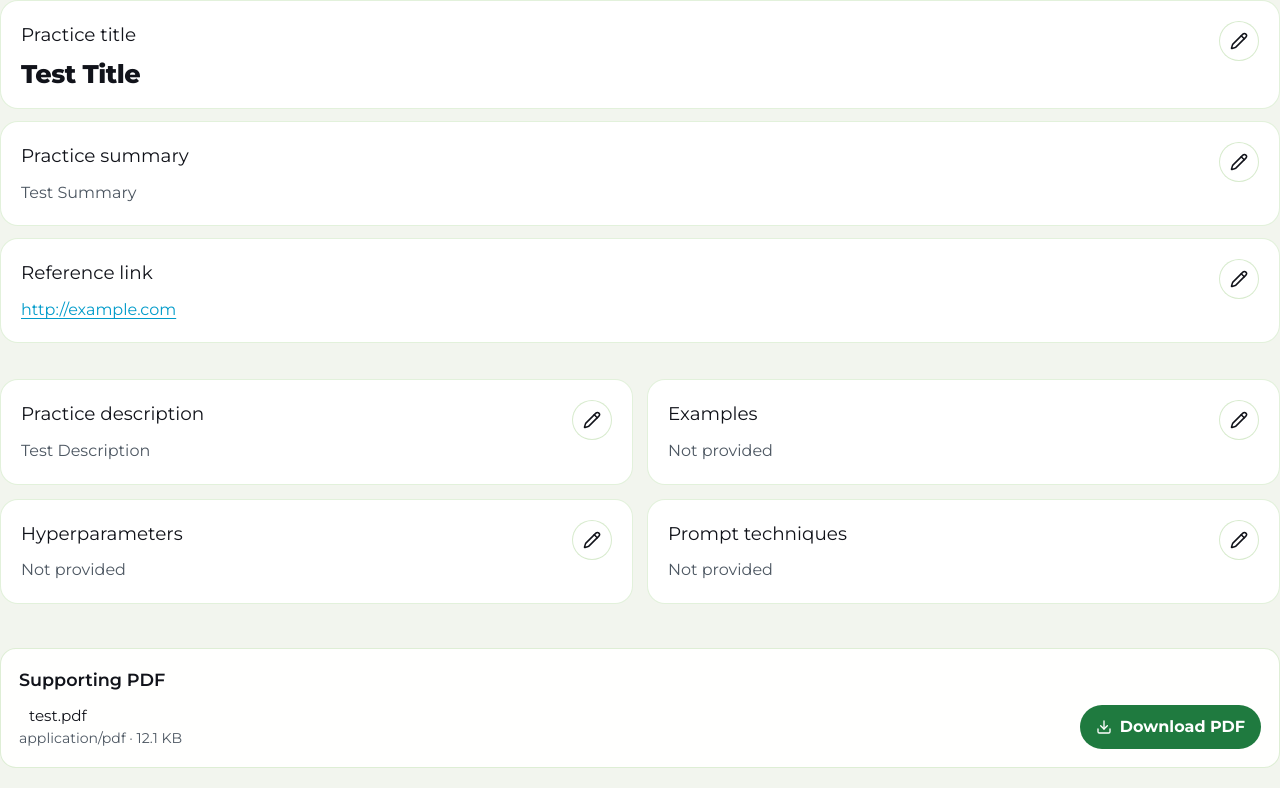
Test: RequestDetailsClient › should handle error on field save
Click the button named "Edit" at (1239, 41), box 1219,21 -> 1259,61
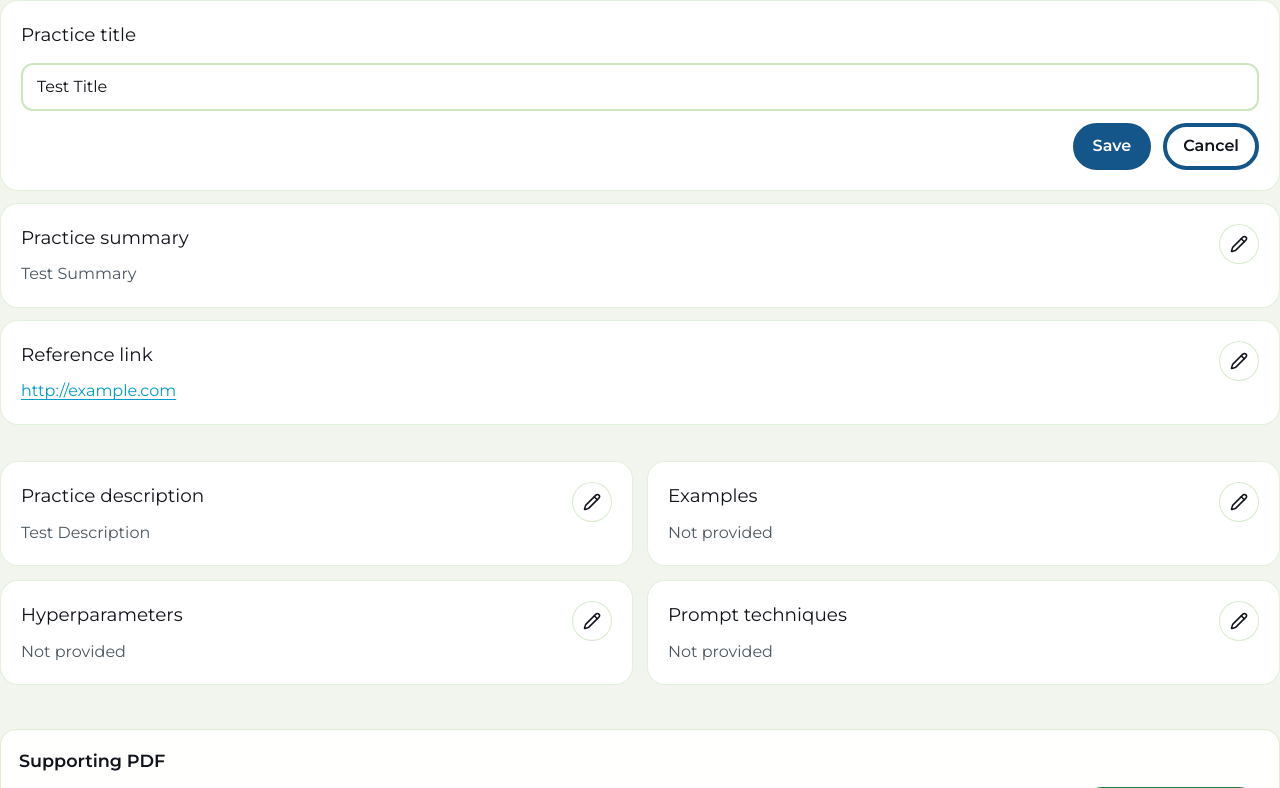
Replace the text in the field named "Practice title" with "New Title" at (640, 87), box 21,63 -> 1259,111
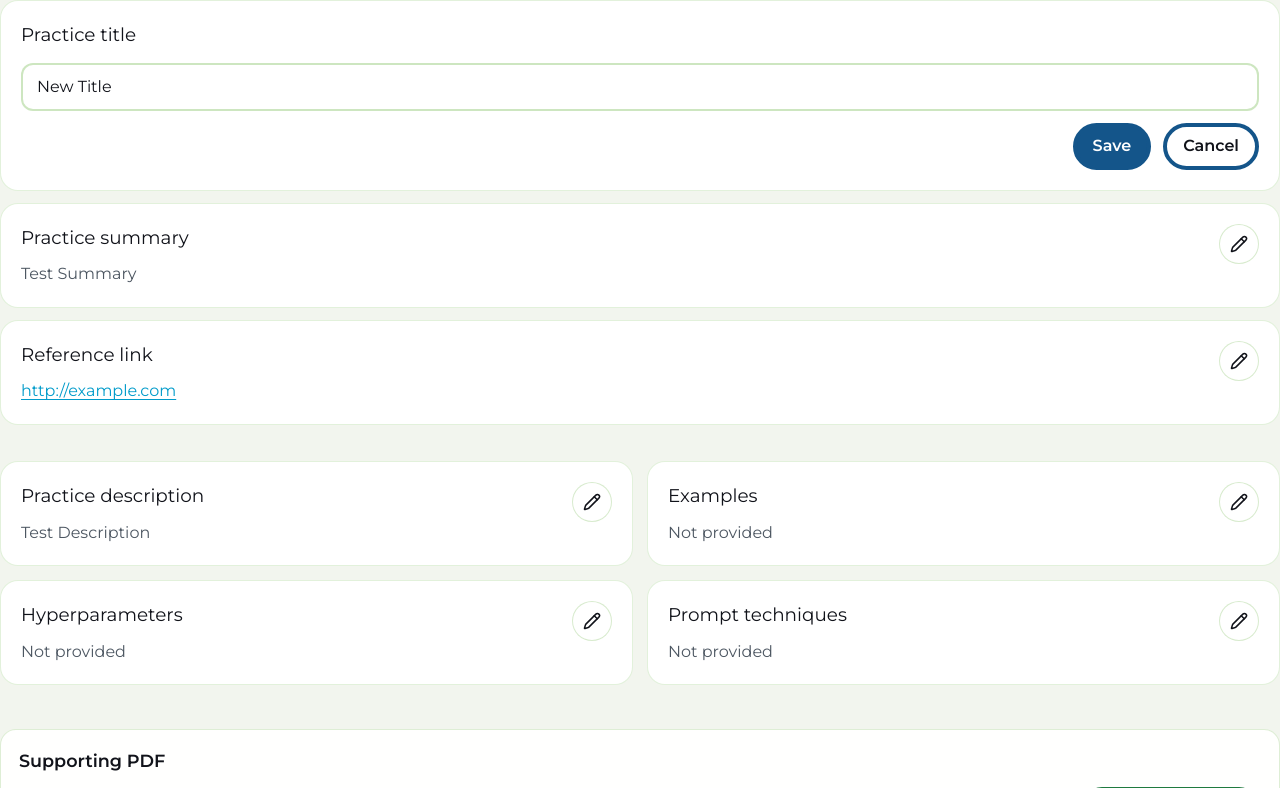
Click the button "Save" at (1112, 146), box 1073,123 -> 1151,170
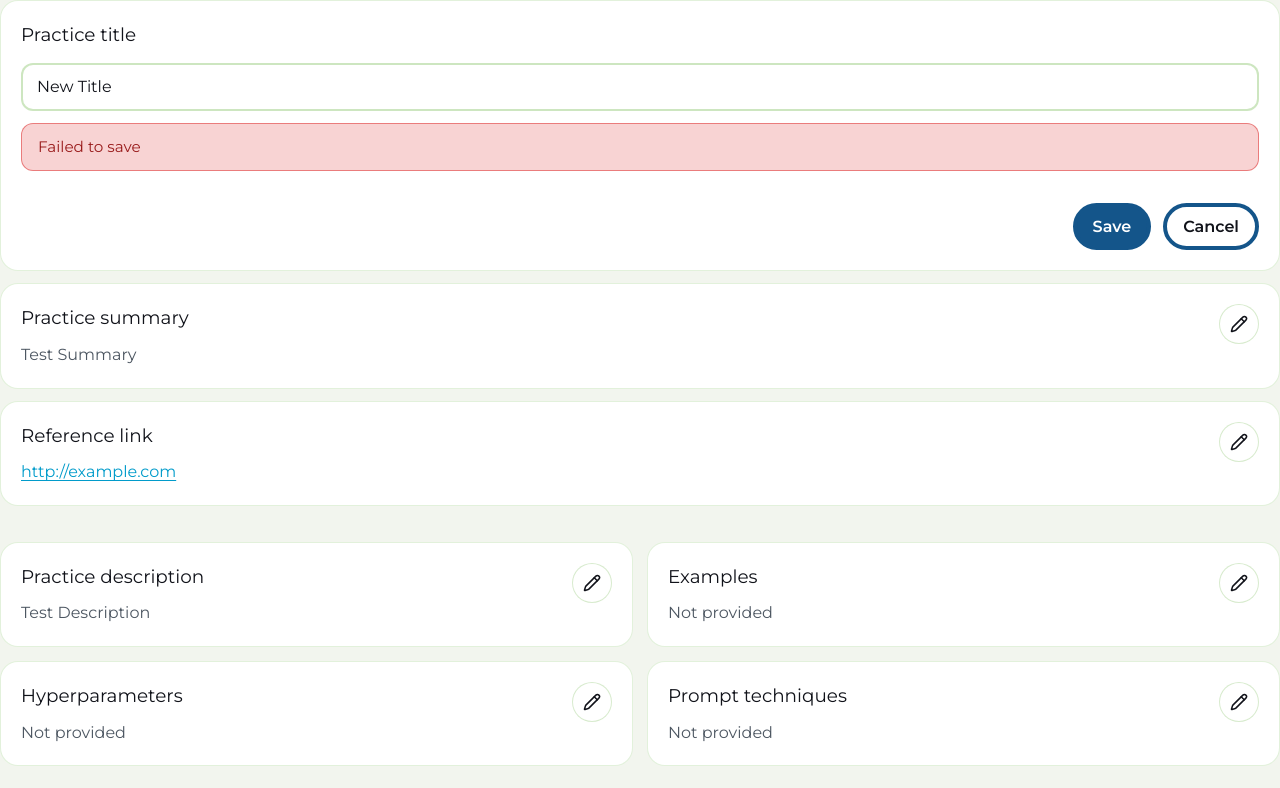
Expected: the text "Failed to save" is shown, 21,123 -> 1259,171
